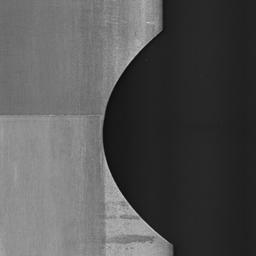Crescent gap: (102, 29, 172, 245)
